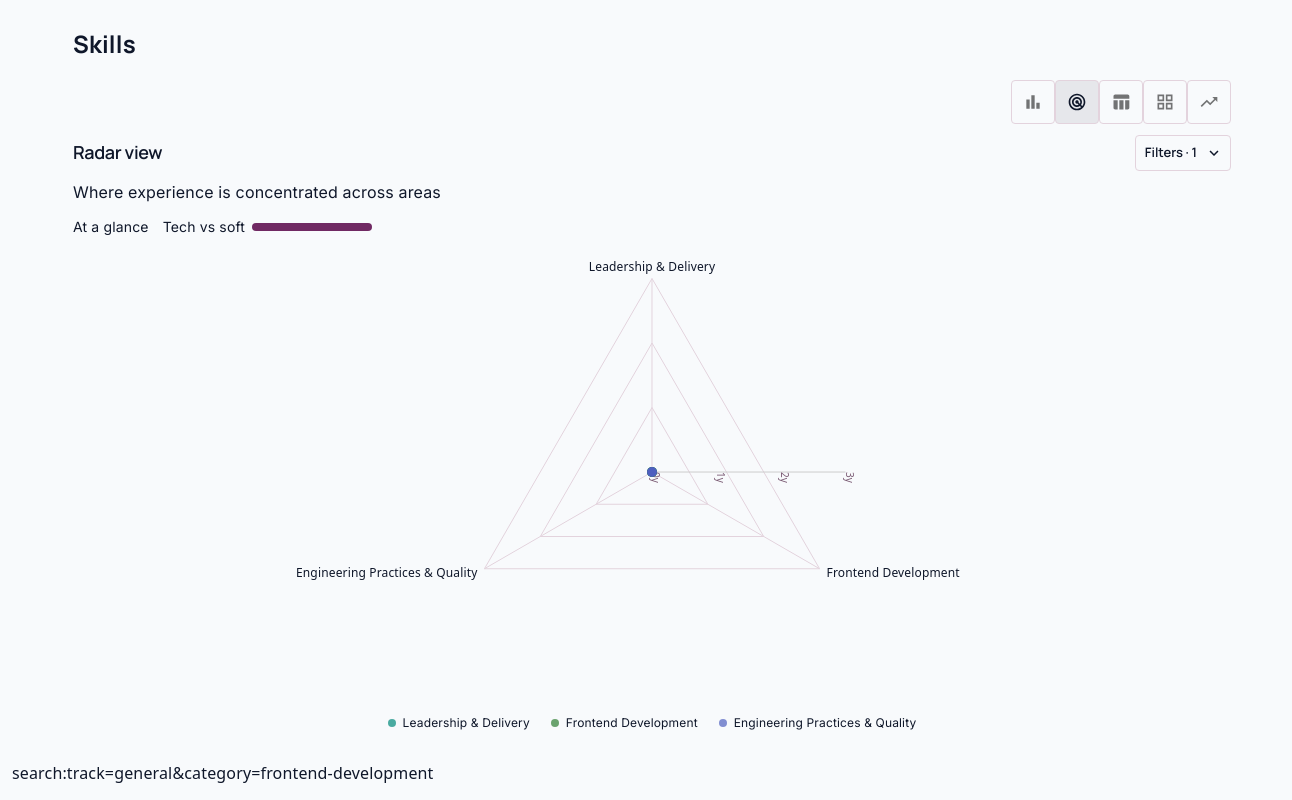
Test: Skills › track URL sync › switching track via the track filter updates the url and drops stale filters
The width and height of the screenshot is (1292, 800).
Note: Track lives in the filter panel — open it first (frontend-development counts as 1 filter).
Click the button "Filters · 1" at [1183, 153], box [1135,135,1231,171]
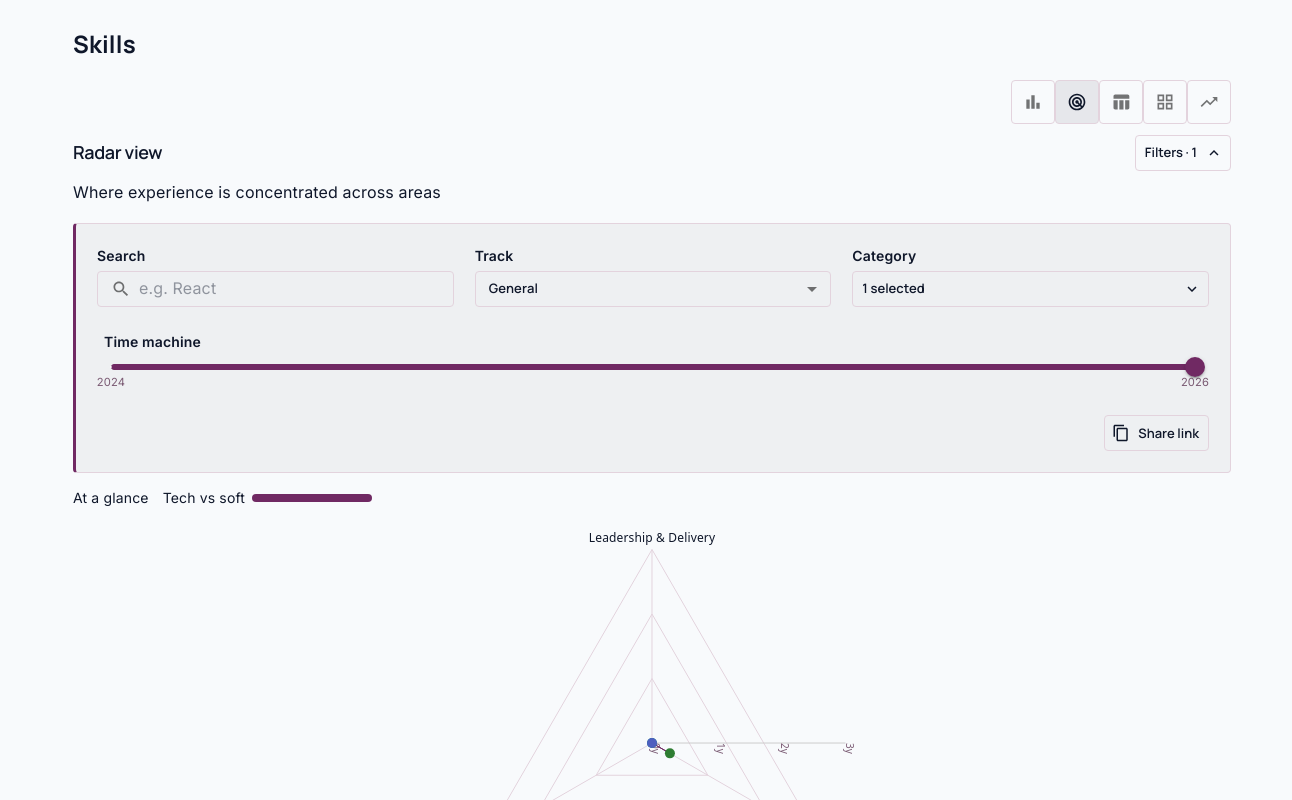
Click the dropdown named "Track" at [513, 288], box [489,279,538,297]
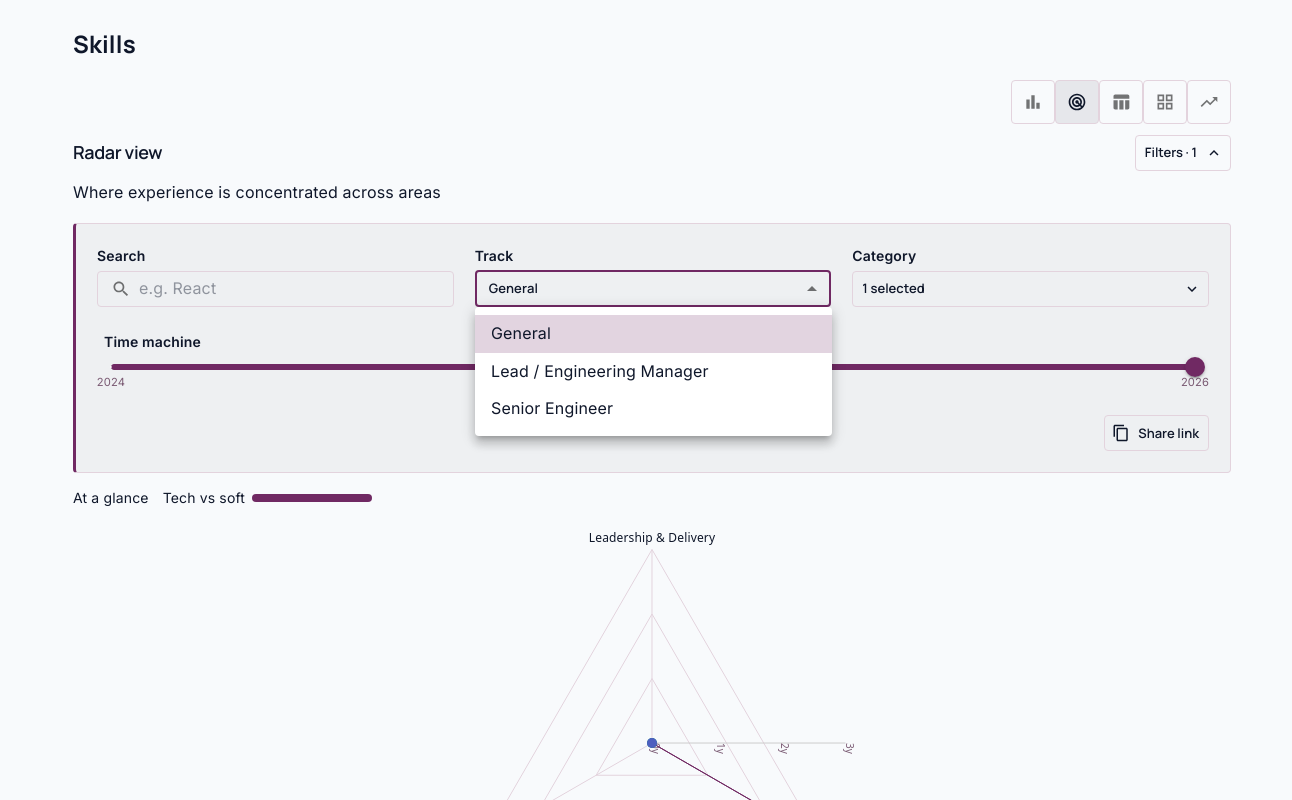
Click the option "Lead / Engineering Manager" at [600, 371], box [491,361,709,381]
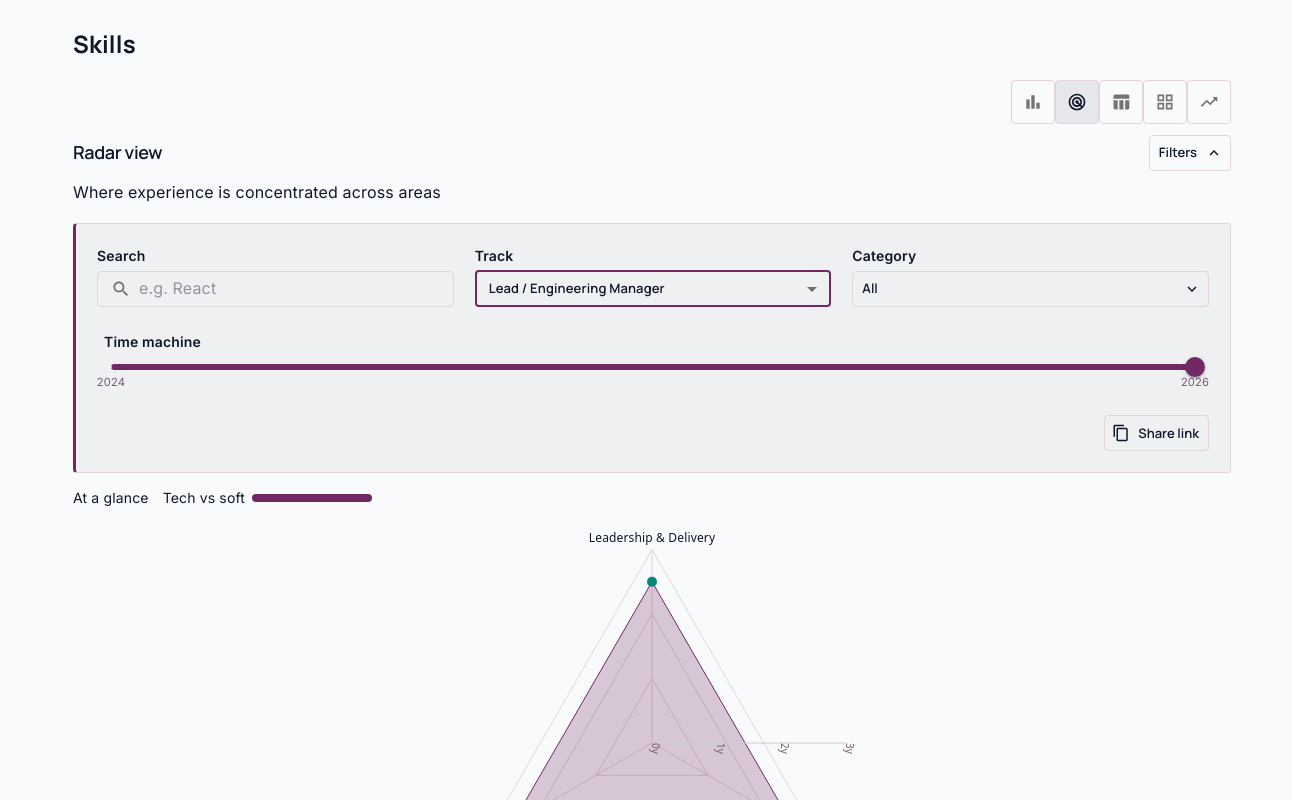
Check: the button with aria-label "Filter skills by category, currently: All" is shown, box [852,271,1209,307]
